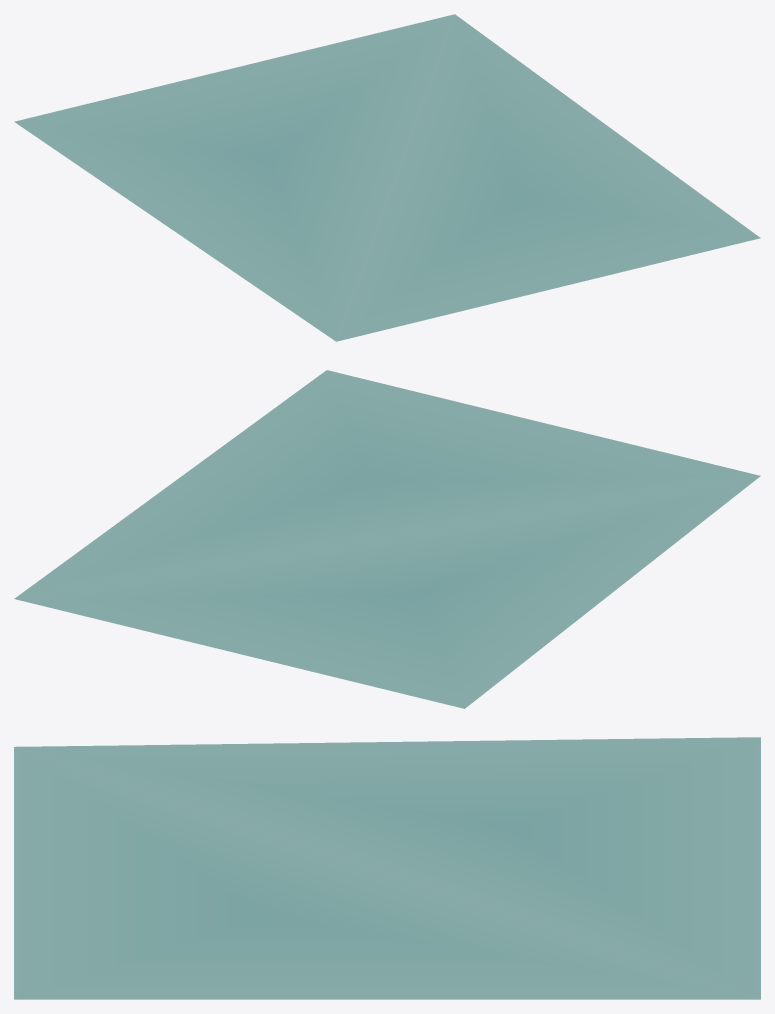
Rendered from water-19-9.glb.
The picture shows the model from 3 angles, top to bottom: view 1: azimuth 30°, elevation 25°; view 2: azimuth 150°, elevation 25°; view 3: azimuth 270°, elevation 25°; orthographic projection. The views are drawn at different scales.
Bounding box in the file's own units: 13.31 × 0 × 16.
